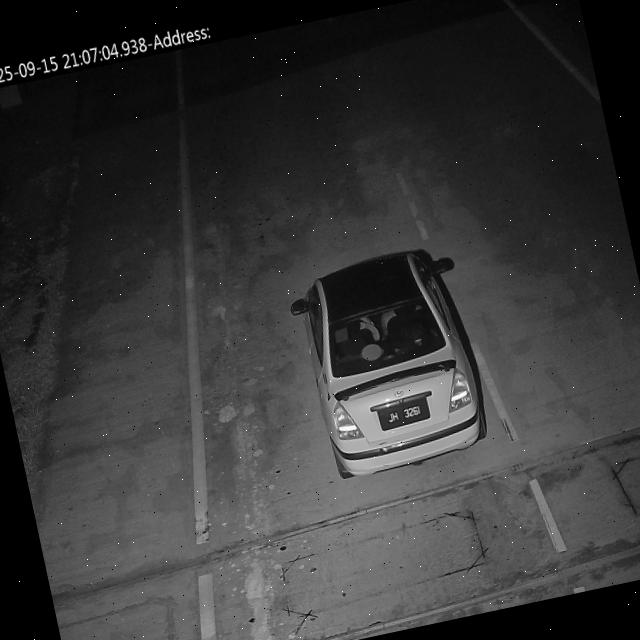back: (374, 398, 436, 428)
